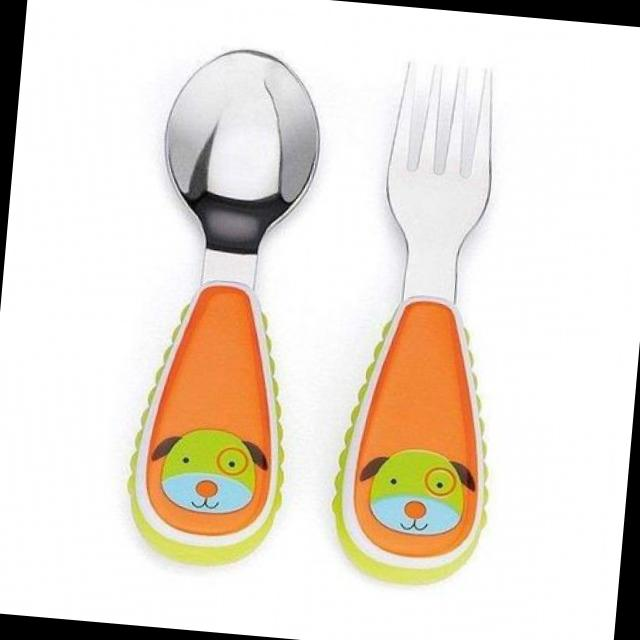fork: (329, 49, 530, 595)
spoon: (97, 34, 339, 585)
